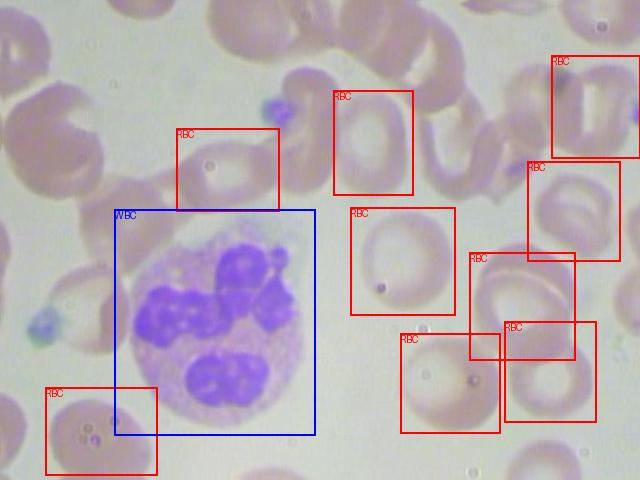RBC: (469, 252, 575, 360), (350, 207, 455, 315), (400, 333, 500, 433), (45, 387, 157, 475), (527, 161, 620, 261), (504, 321, 596, 422), (551, 55, 640, 158), (176, 128, 279, 211), (333, 90, 413, 195)
WBC: (114, 209, 315, 435)
